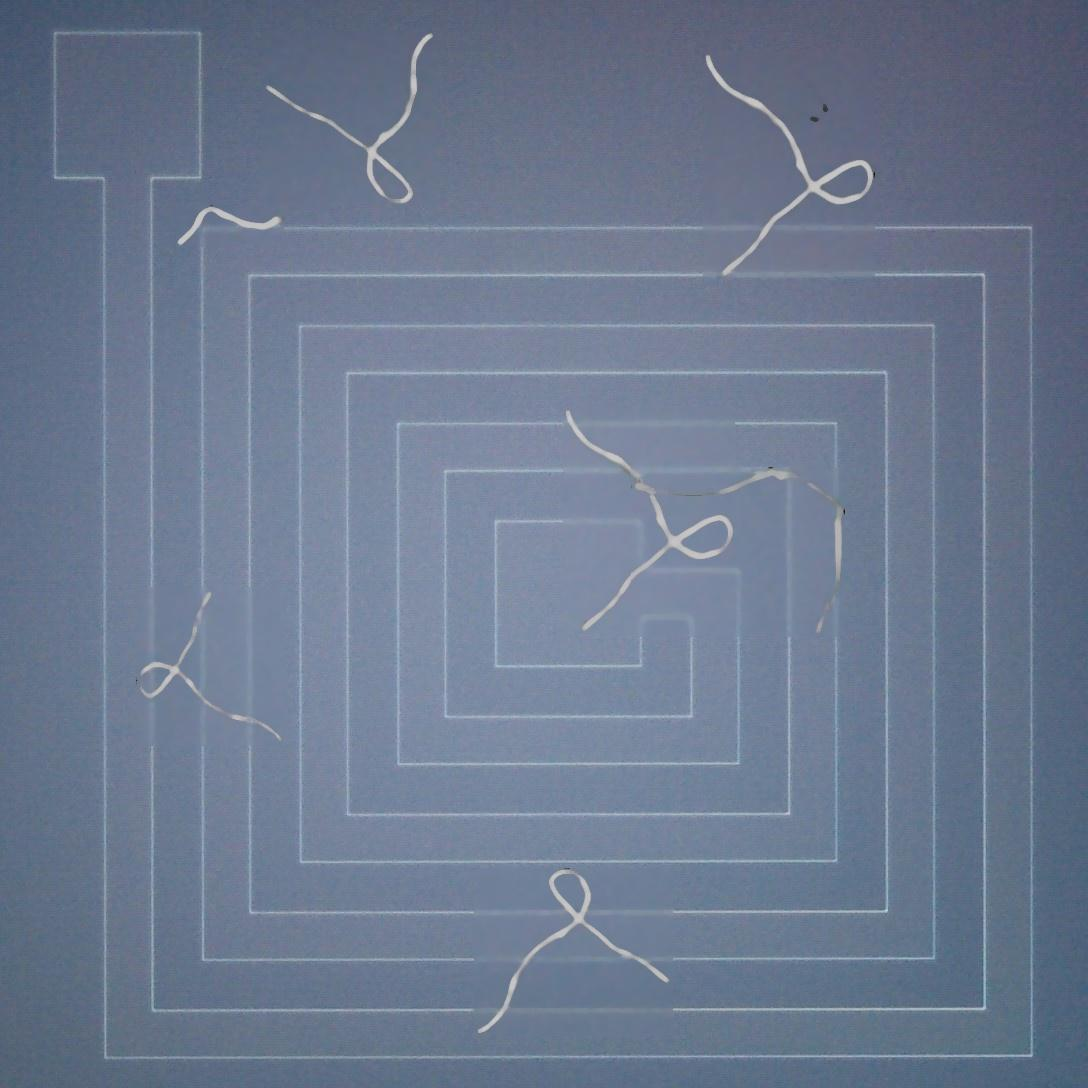foreign: (561, 402, 854, 639), (700, 42, 892, 290), (467, 856, 674, 1034), (253, 28, 439, 214), (128, 588, 290, 753), (173, 196, 286, 253)
